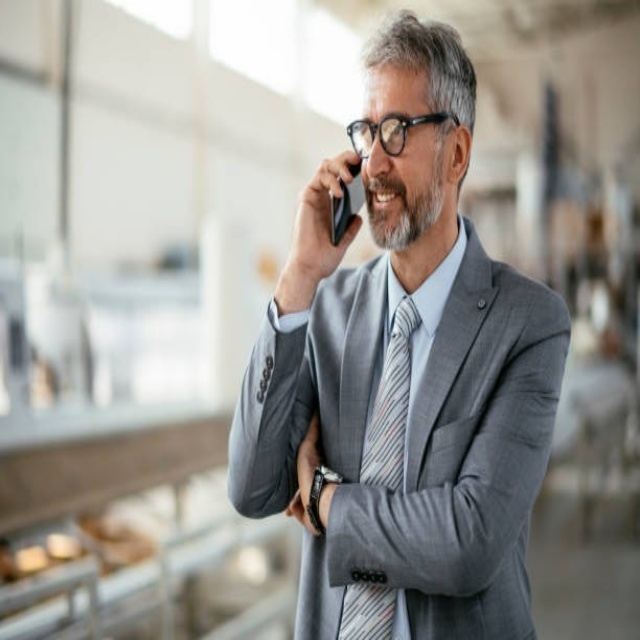Gafas: (347, 112, 457, 158)
Sin_guantes: (290, 152, 362, 281), (283, 417, 328, 538)
Sin_mascara: (367, 179, 410, 240)
